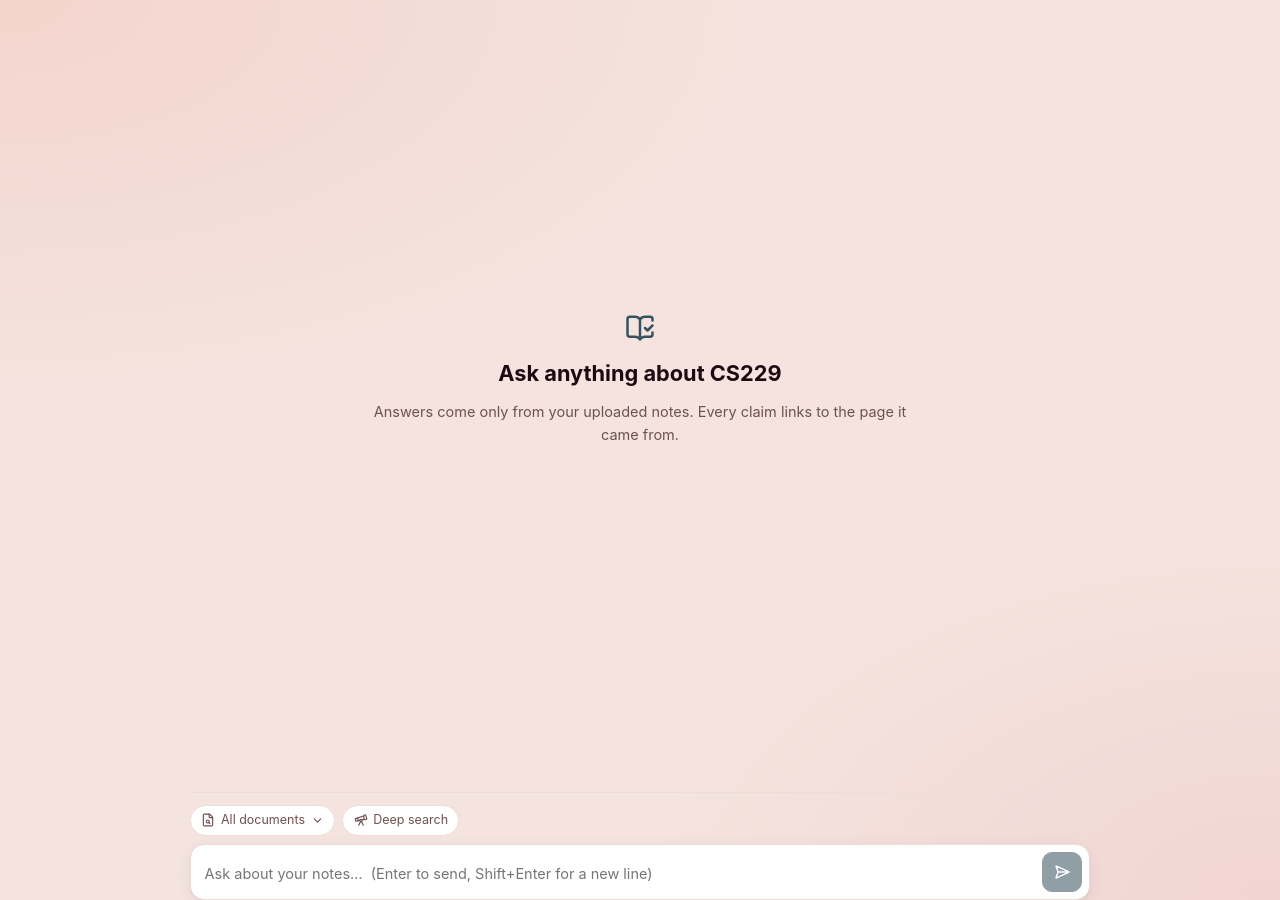
Test case: Chat › shows model errors inline
The image size is (1280, 900).
Replace the text in the text box named "Your question" with "hi there" at coordinates (619, 874), box [205,857,1034,892]
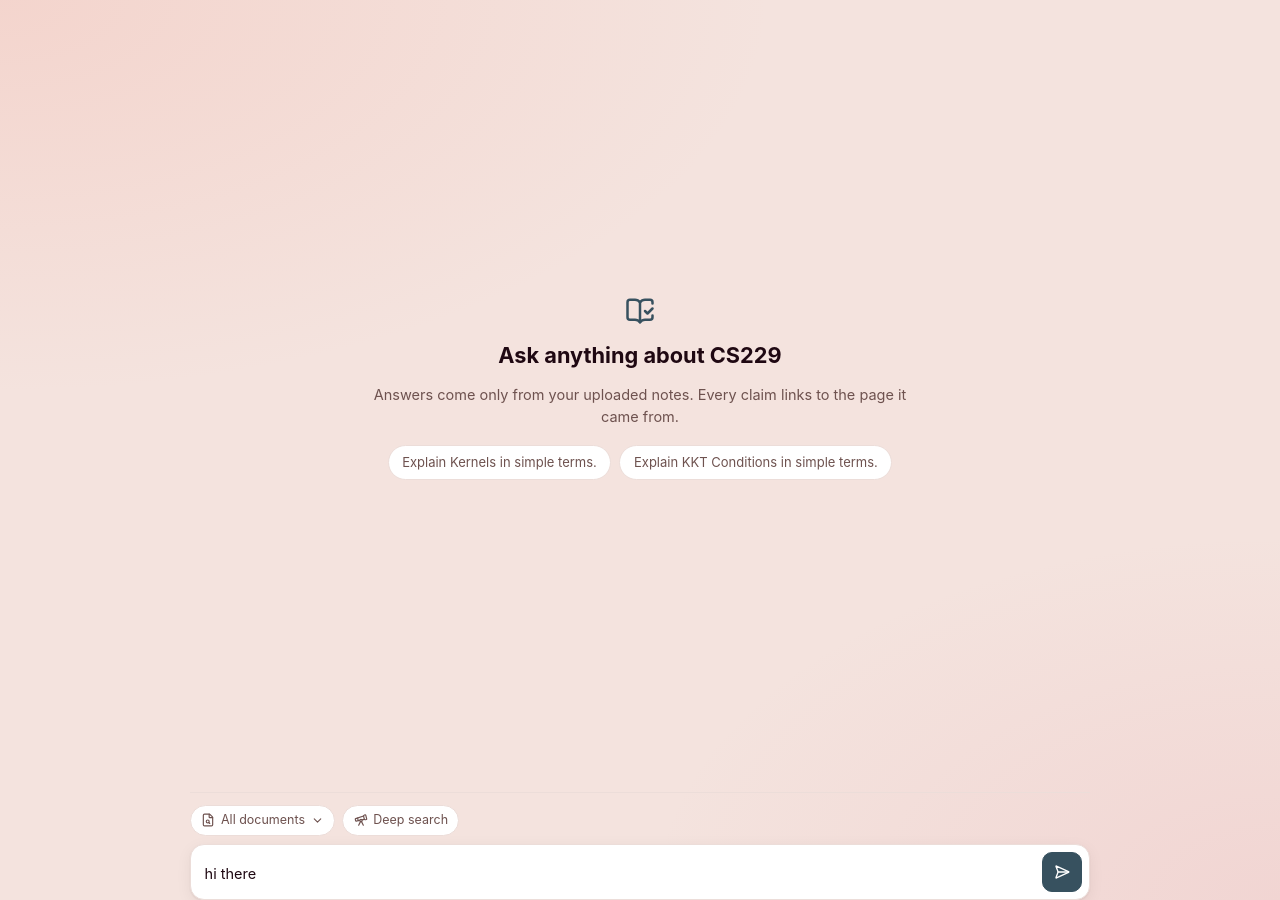
Press Enter in the text box named "Your question", box [205,857,1034,892]
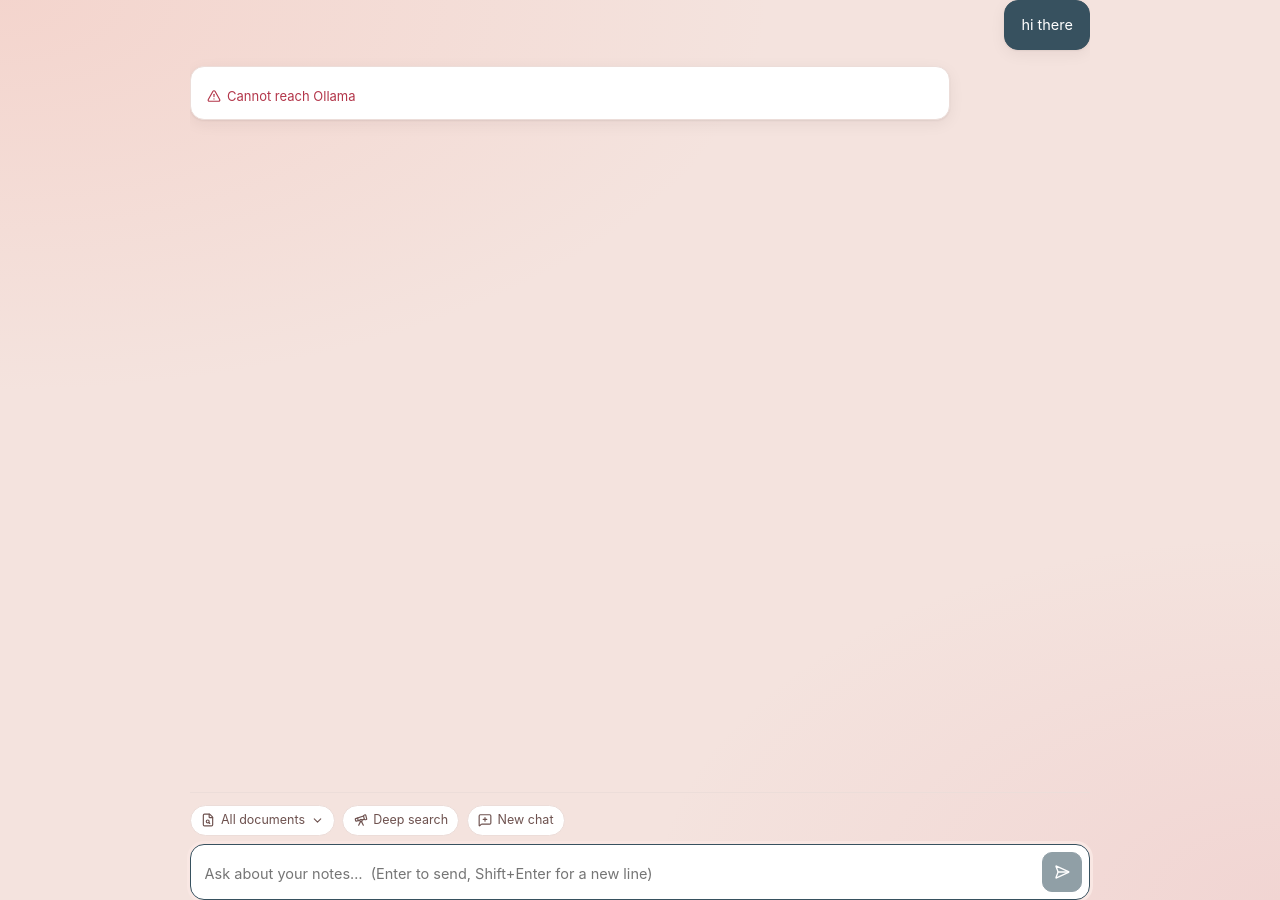
Check: the message reads "Cannot reach Ollama", box [227,88,356,104]
